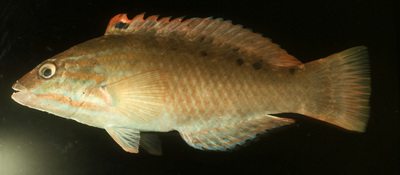fish: (11, 12, 372, 154)
